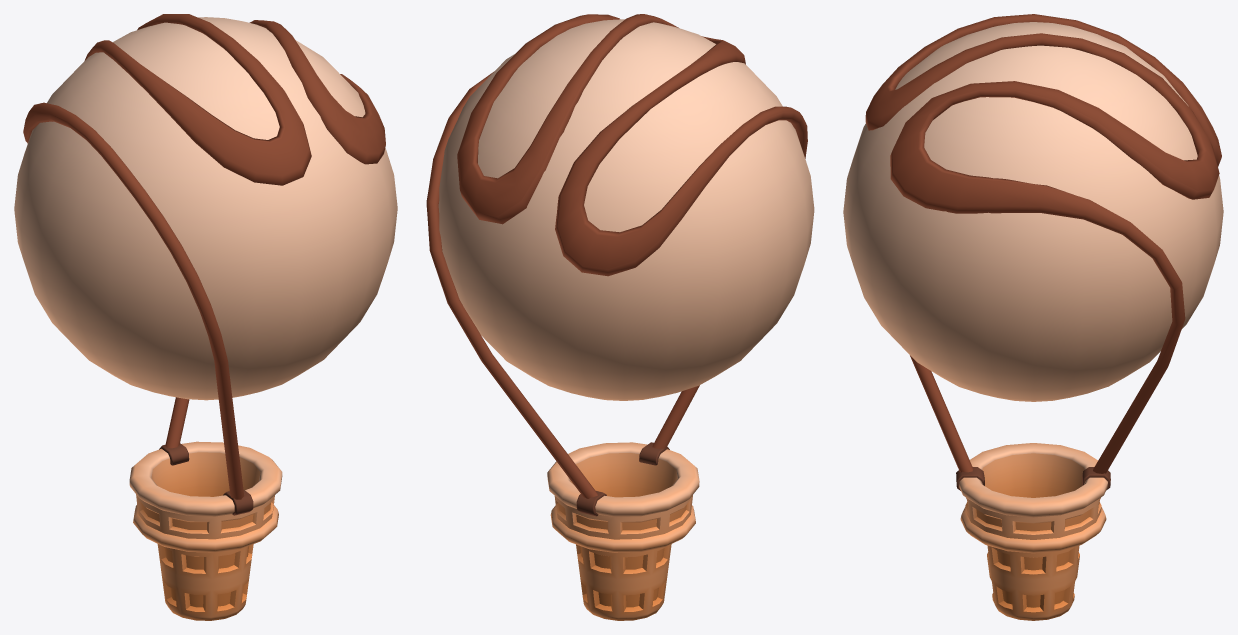
The model's file is AirBalloon_02.glb.
3 views of the same model, side by side, from view 1: azimuth 30°, elevation 25°; view 2: azimuth 150°, elevation 25°; view 3: azimuth 270°, elevation 25° (orthographic).
Visible parts, largest first — view 1: AirBalloon_02; view 2: AirBalloon_02; view 3: AirBalloon_02.
Boxes of the visible parts, x1,y1,x2,y2 form: AirBalloon_02: (14,14,397,620); AirBalloon_02: (426,14,814,620); AirBalloon_02: (843,14,1223,620).
Bounding box in the file's own units: 8.96 × 14.96 × 8.96.
Materials: 2 (2 with a texture image).
